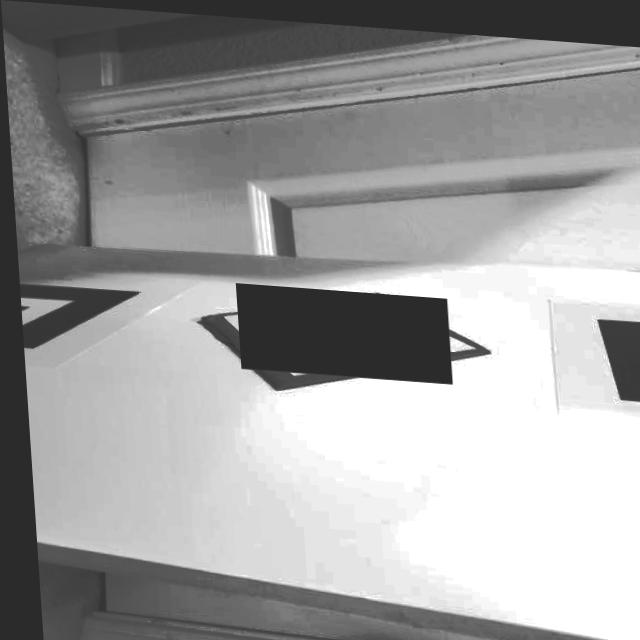qr_code: (231, 280, 446, 377)
